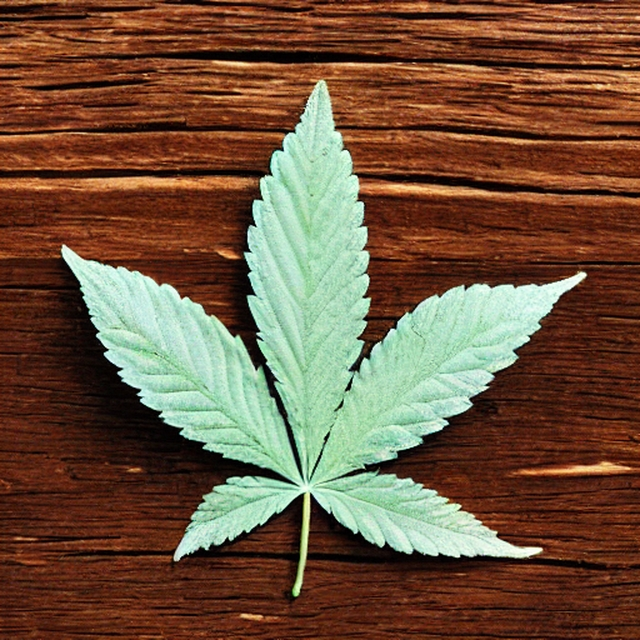Marijuana Leaf: (58, 77, 587, 598)
